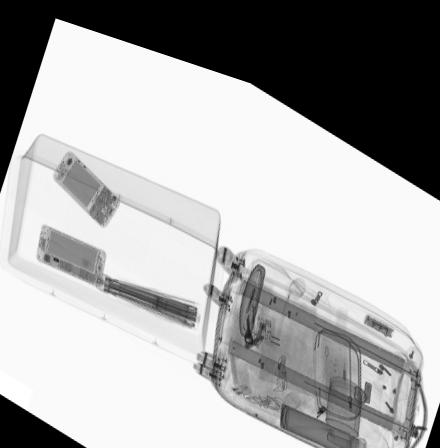Lighter: (230, 366, 257, 382)
